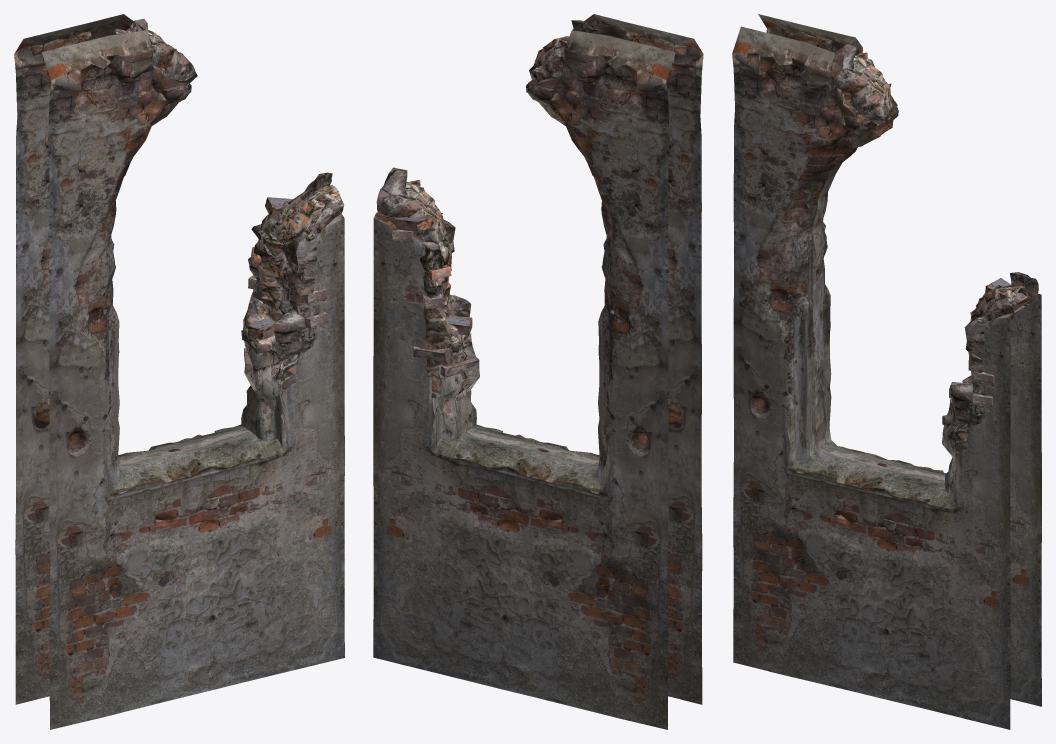
The model's file is SM_ChapelWall_01_03.fbx.
3 renders of one model, left to right at view 1: azimuth 30°, elevation 25°; view 2: azimuth 150°, elevation 25°; view 3: azimuth 330°, elevation 25°, orthographic. The views are drawn at different scales.
Parts seen in each view (by area): view 1: sm_ChapelWall_01_03_LOD0; view 2: sm_ChapelWall_01_03_LOD0; view 3: sm_ChapelWall_01_03_LOD0.
Boxes of the visible parts, x1=… form: sm_ChapelWall_01_03_LOD0: x1=14, y1=14, x2=344, y2=729; sm_ChapelWall_01_03_LOD0: x1=373, y1=14, x2=703, y2=729; sm_ChapelWall_01_03_LOD0: x1=732, y1=14, x2=1041, y2=729.
Bounding box in the file's own units: 60.14 × 251 × 544.
